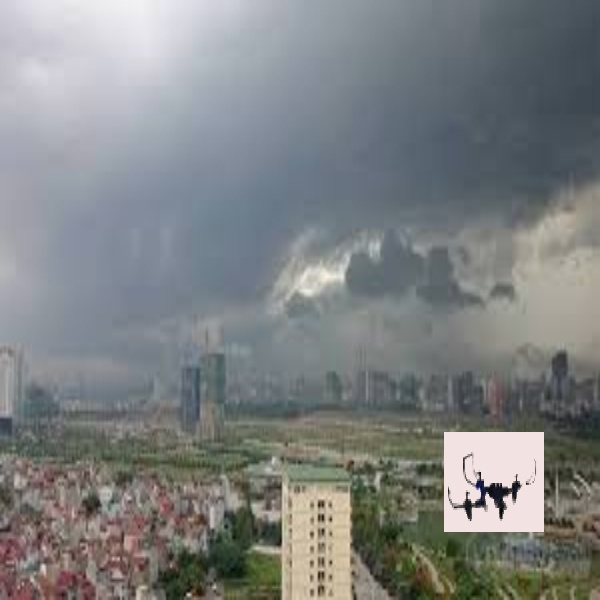drone: (449, 447, 539, 524)
